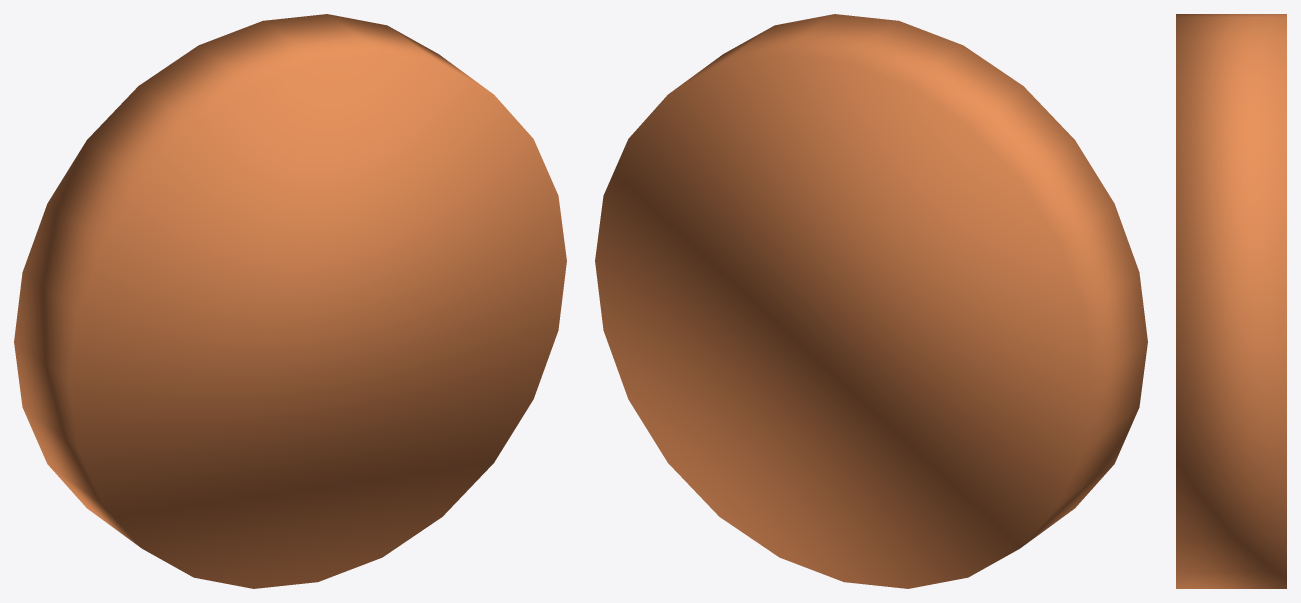
File: shape-circle-orange.glb
The picture shows the model from 3 angles, left to right: view 1: azimuth 30°, elevation 25°; view 2: azimuth 150°, elevation 25°; view 3: azimuth 270°, elevation 25°; orthographic projection.
Visible parts, largest first — view 1: solid circle; view 2: solid circle; view 3: solid circle.
Boxes of the visible parts, bbox=[...] form: solid circle: bbox=[14, 14, 566, 588]; solid circle: bbox=[595, 14, 1147, 588]; solid circle: bbox=[1176, 14, 1286, 588].
Bounding box in the file's own units: 1.3 × 1.3 × 0.25.
